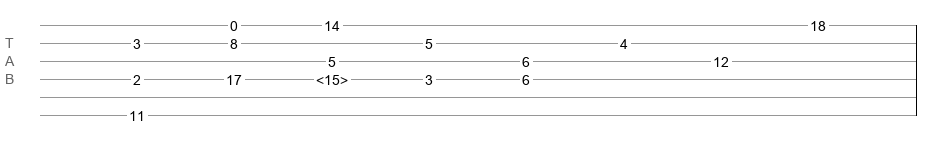0: (230, 18, 238, 28)
11: (129, 108, 145, 118)
12: (713, 54, 729, 64)
14: (324, 18, 340, 28)
17: (226, 72, 242, 82)
18: (810, 18, 826, 28)
2: (133, 72, 141, 82)
3: (133, 36, 141, 46), (425, 72, 433, 82)
4: (620, 36, 628, 46)
5: (328, 54, 336, 64), (425, 36, 433, 46)
6: (522, 72, 530, 82), (522, 54, 530, 64)
8: (230, 36, 238, 46)
harmonic: (316, 72, 348, 82)
